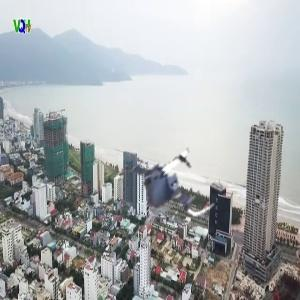drone: (122, 135, 221, 234)
